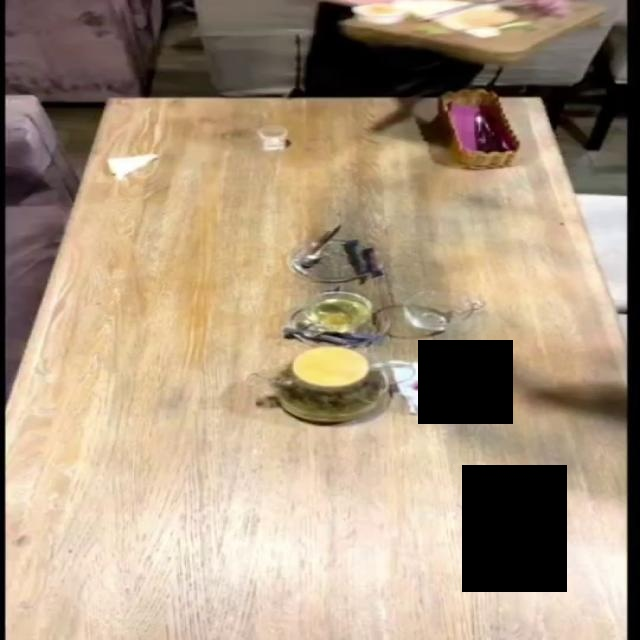tea: (266, 345, 391, 423)
